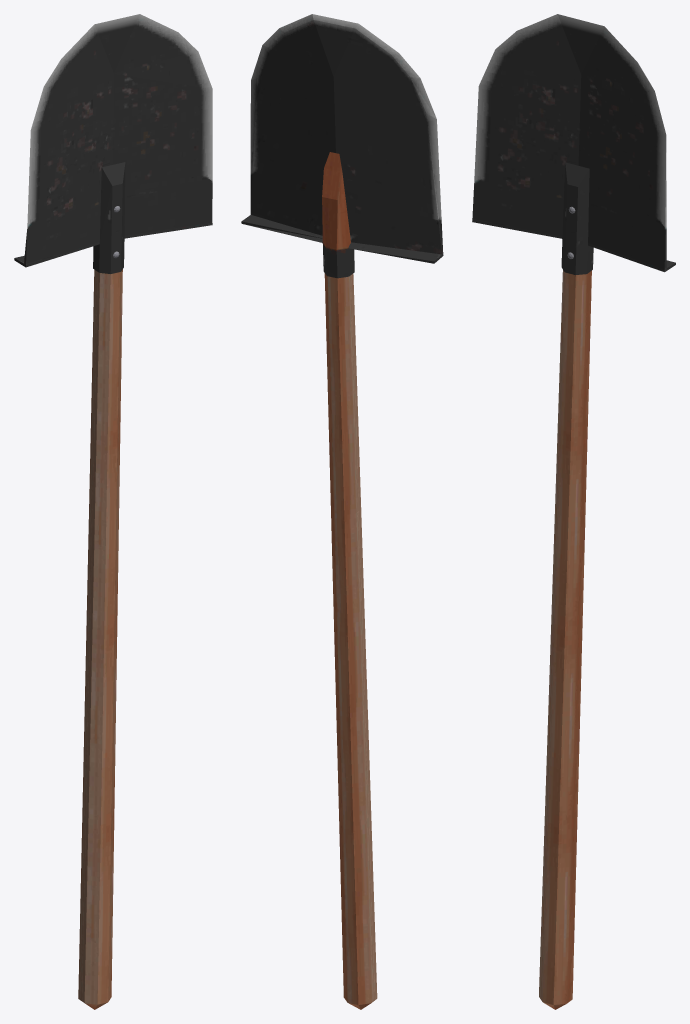
The model's file is shovel.glb.
3 views of the same model, side by side, from view 1: azimuth 30°, elevation 25°; view 2: azimuth 150°, elevation 25°; view 3: azimuth 330°, elevation 25° (orthographic).
Visible parts, largest first — view 1: Object_4; view 2: Object_4; view 3: Object_4.
Boxes of the visible parts, <box> form: Object_4: <box>14,14,212,1009</box>; Object_4: <box>241,14,443,1009</box>; Object_4: <box>472,14,675,1009</box>.
Bounding box in the file's own units: 1.25 × 6.18 × 0.2202.
Materials: 1 (1 with a texture image).
